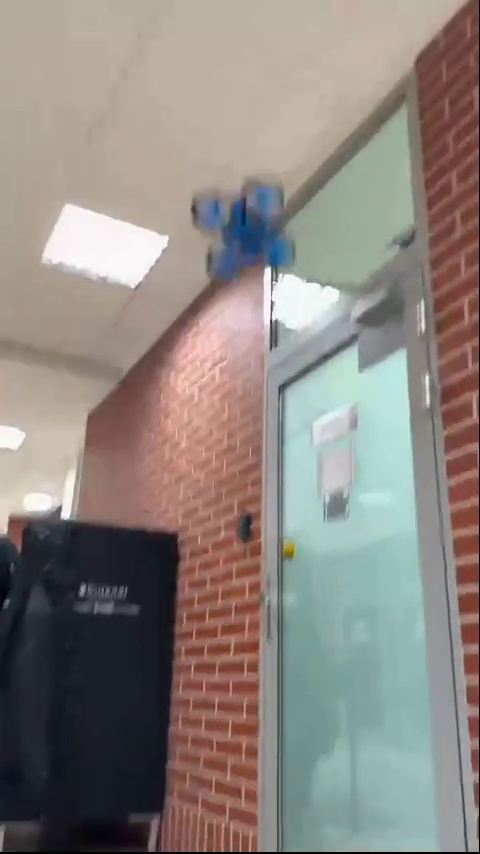drone: (191, 180, 291, 279)
